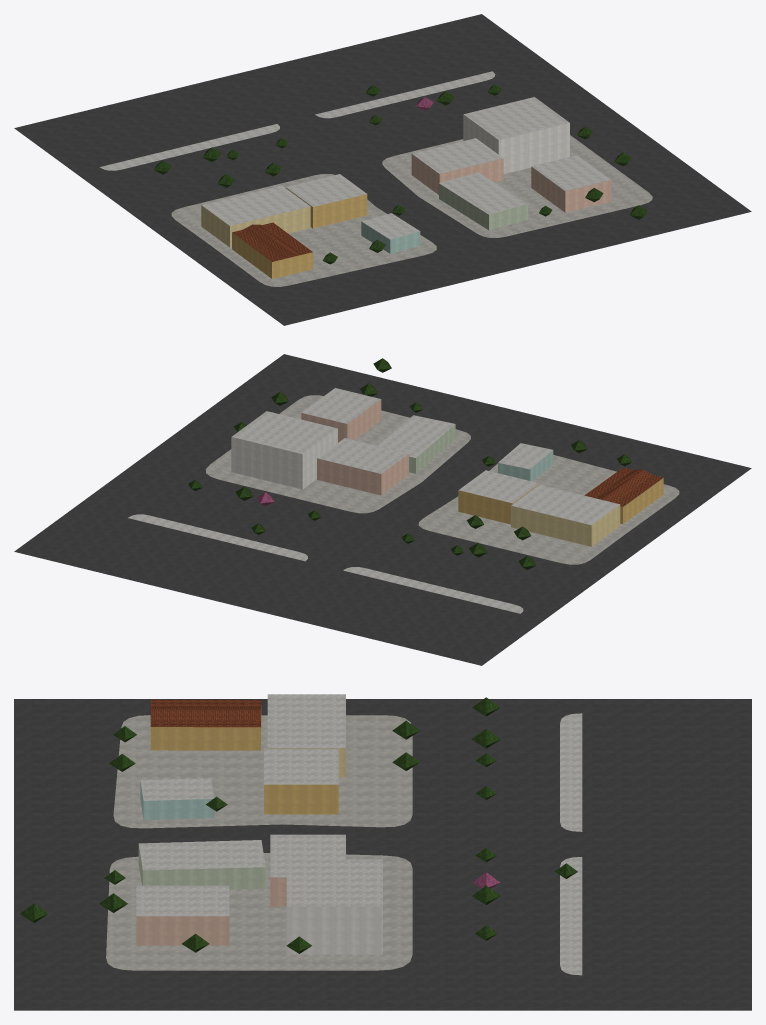
The model's file is cidade_S03_02_lod.gltf.
3 views of the same model, one above another, from view 1: azimuth 30°, elevation 25°; view 2: azimuth 150°, elevation 25°; view 3: azimuth 270°, elevation 25° (orthographic). The views are drawn at different scales.
Visible parts, largest first — view 1: S03_02_Chao_LOD2, S03_02_Edificios_LOD1, S03_02_Vegetacao_LOD2, S03_02_Silhueta_LOD2; view 2: S03_02_Chao_LOD2, S03_02_Edificios_LOD1, S03_02_Vegetacao_LOD2, S03_02_Silhueta_LOD2; view 3: S03_02_Chao_LOD2, S03_02_Edificios_LOD1, S03_02_Vegetacao_LOD2, S03_02_Silhueta_LOD2.
Boxes of the visible parts, box(x1,y1,x2,y2) form: S03_02_Chao_LOD2: box(14, 14, 751, 325); S03_02_Edificios_LOD1: box(201, 97, 611, 278); S03_02_Vegetacao_LOD2: box(154, 84, 647, 264); S03_02_Silhueta_LOD2: box(232, 222, 313, 278); S03_02_Chao_LOD2: box(14, 354, 751, 665); S03_02_Edificios_LOD1: box(231, 388, 663, 546); S03_02_Vegetacao_LOD2: box(188, 358, 631, 569); S03_02_Silhueta_LOD2: box(584, 467, 663, 522); S03_02_Chao_LOD2: box(14, 699, 751, 1010); S03_02_Edificios_LOD1: box(136, 694, 382, 954); S03_02_Vegetacao_LOD2: box(19, 697, 577, 953); S03_02_Silhueta_LOD2: box(150, 699, 261, 750).
Size of the model in its own units: 100 by 7.37 by 100.
12 materials, 12 textured.
